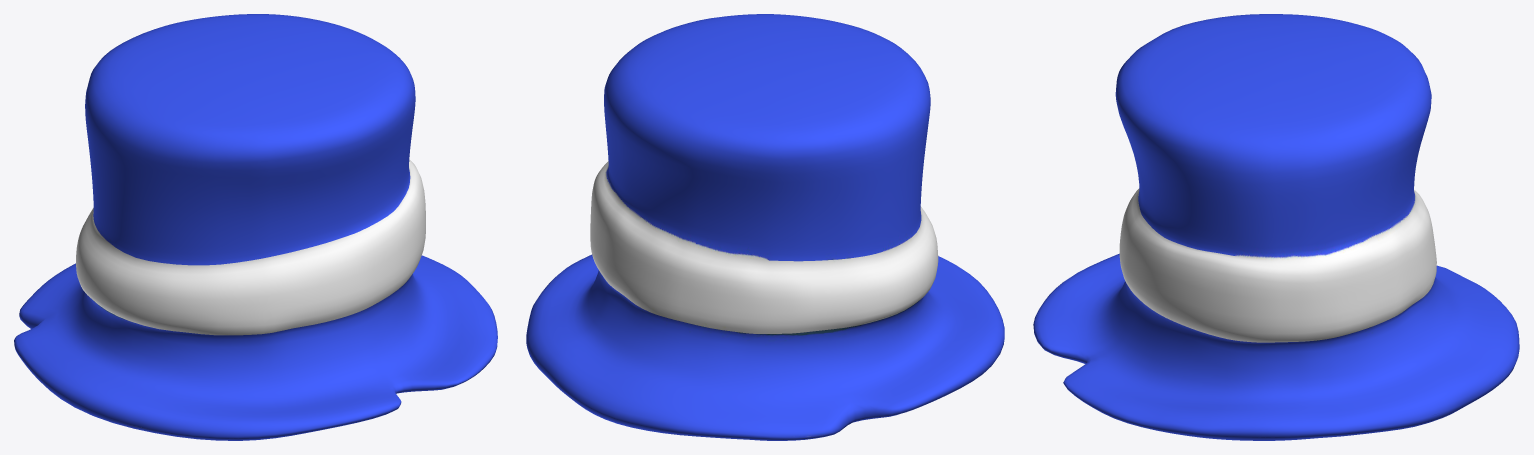
The model's file is sombrero.glb.
3 renders of one model, left to right at view 1: azimuth 30°, elevation 25°; view 2: azimuth 150°, elevation 25°; view 3: azimuth 270°, elevation 25°, orthographic.
Visible parts, largest first — view 1: polySurface1; view 2: polySurface1; view 3: polySurface1.
Part boxes in pixels (x1,y1,x2,y2): polySurface1: (14,14,497,440); polySurface1: (526,14,1004,440); polySurface1: (1033,14,1519,440).
Bounding box in the file's own units: 94.57 × 63.35 × 95.13.
Materials: 1 (1 with a texture image).
